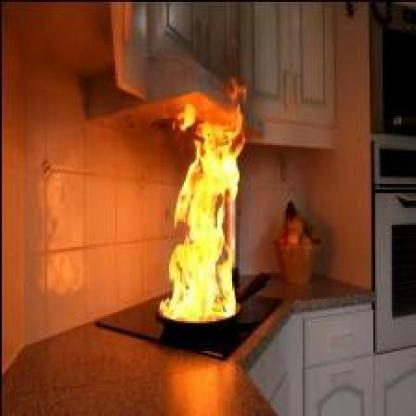Fire: (156, 101, 244, 316)
